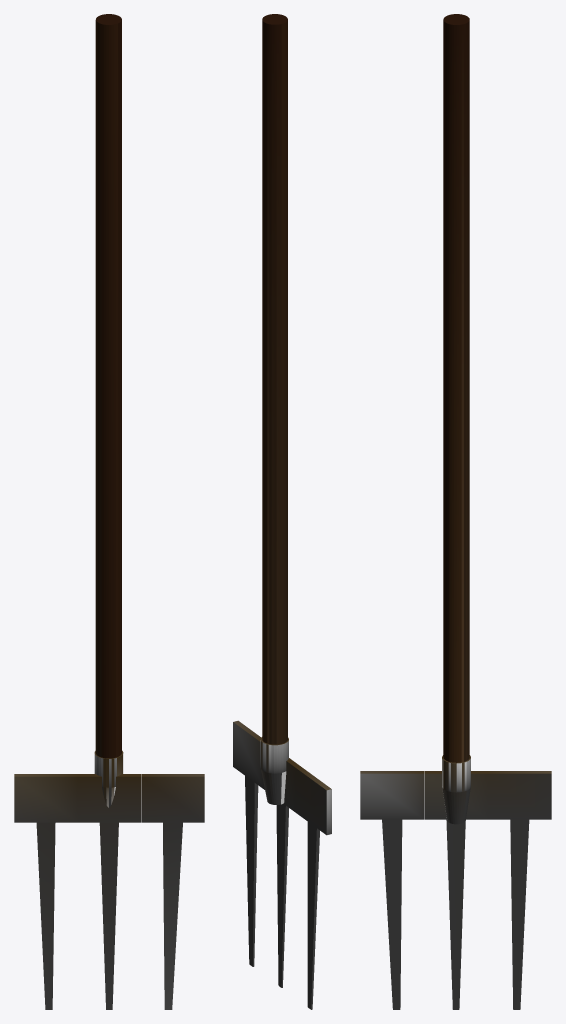
Rendered from инструменты_с_х1.fbx.
3 views of the same model, side by side, from view 1: azimuth 90°, elevation 25°; view 2: azimuth 210°, elevation 25°; view 3: azimuth 270°, elevation 25° (orthographic). The views are drawn at different scales.
Visible parts, largest first — view 1: Куб.001; view 2: Куб.001; view 3: Куб.001.
Boxes of the visible parts, x1=… form: Куб.001: x1=14, y1=14, x2=204, y2=1009; Куб.001: x1=233, y1=14, x2=331, y2=1009; Куб.001: x1=360, y1=14, x2=551, y2=1009.
Bounding box in the file's own units: 18.54 × 702 × 123.
